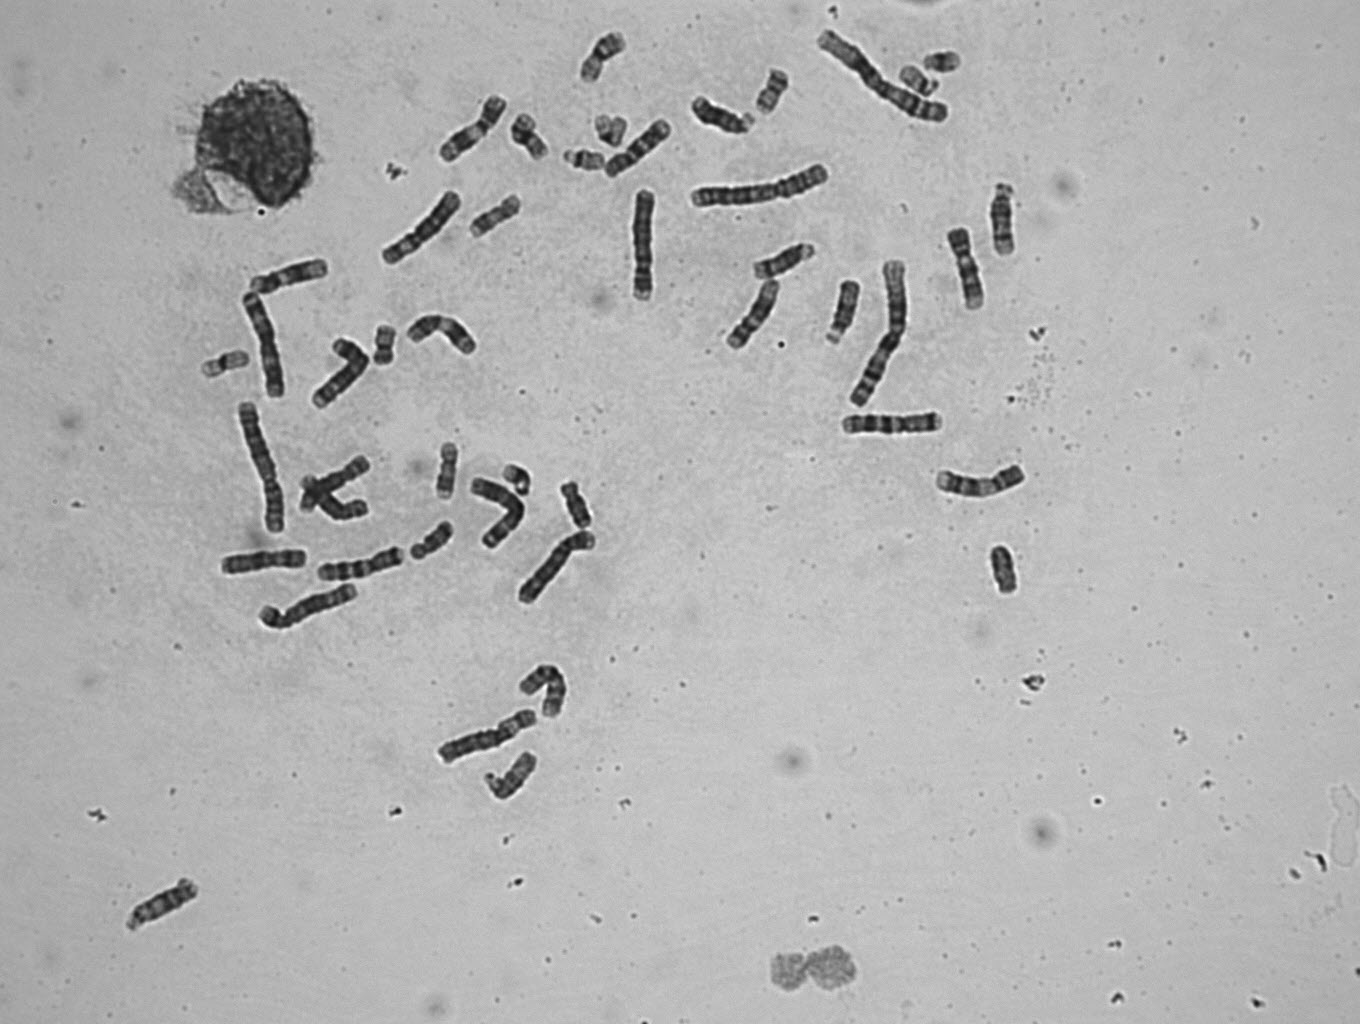chromosomes: (806, 20, 953, 136), (844, 259, 911, 412), (228, 397, 290, 538), (685, 158, 836, 214), (507, 528, 601, 615), (376, 187, 468, 275), (423, 709, 541, 770), (301, 333, 374, 413), (254, 582, 362, 635), (432, 93, 510, 166), (237, 294, 289, 400), (292, 453, 375, 517), (721, 276, 790, 353), (121, 874, 205, 935), (469, 472, 529, 551), (941, 226, 990, 317), (931, 460, 1030, 504), (297, 469, 374, 525), (405, 305, 482, 360), (607, 116, 675, 177), (311, 543, 409, 585), (628, 186, 661, 305), (246, 251, 332, 297), (212, 546, 311, 585), (836, 408, 947, 442), (515, 662, 572, 722), (479, 751, 540, 806), (819, 278, 863, 352), (987, 169, 1020, 264), (575, 30, 629, 88), (691, 93, 756, 140), (746, 240, 819, 280), (983, 541, 1023, 607), (468, 191, 522, 240), (510, 111, 555, 167), (557, 477, 602, 529), (755, 65, 798, 118), (409, 517, 459, 561), (432, 439, 466, 502), (195, 344, 250, 381), (894, 63, 944, 100), (500, 452, 534, 498), (590, 108, 629, 148), (372, 317, 400, 371), (560, 147, 607, 175), (921, 48, 967, 73)
